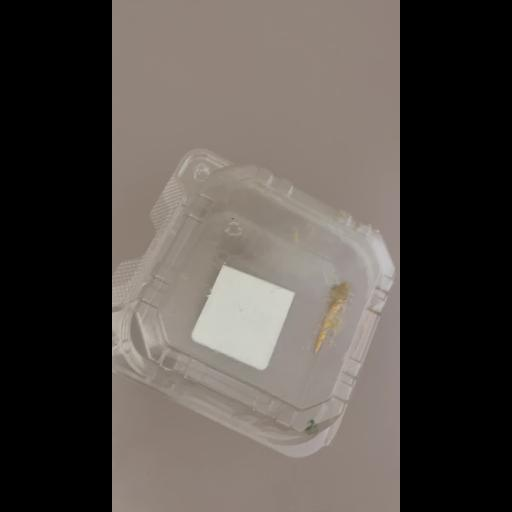small_plastic_container: (113, 152, 393, 450)
